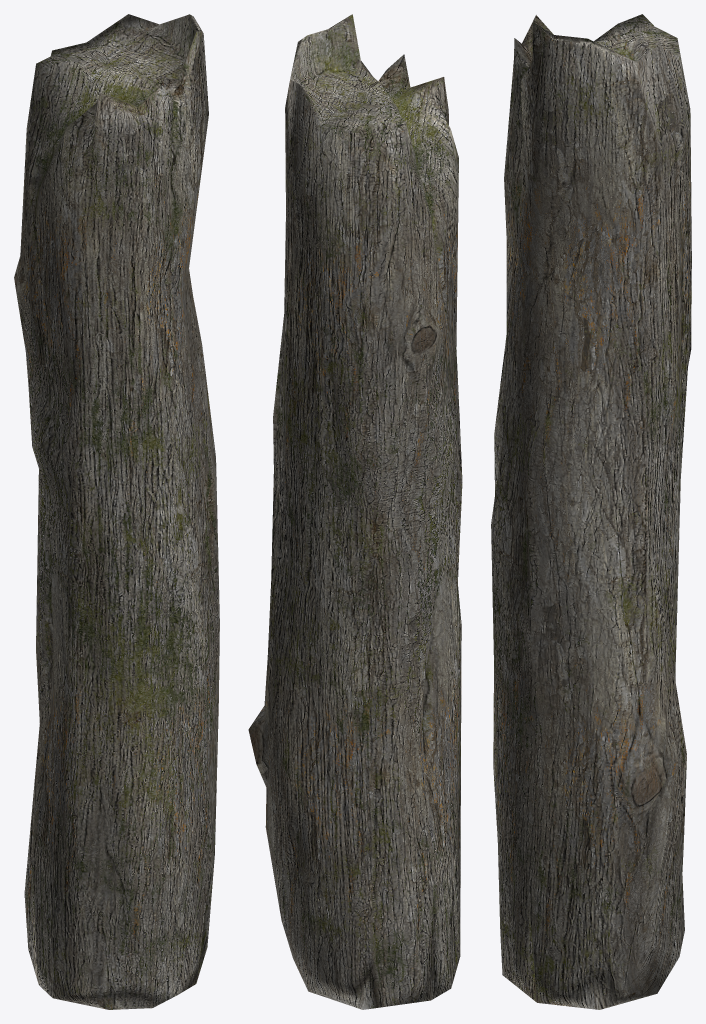
File: SM_ShortPostfbx_1.fbx
3 renders of one model, left to right at view 1: azimuth 30°, elevation 25°; view 2: azimuth 150°, elevation 25°; view 3: azimuth 270°, elevation 25°, orthographic. The views are drawn at different scales.
Parts seen in each view (by area): view 1: SM_ShortPostfbx_1_LOD0; view 2: SM_ShortPostfbx_1_LOD0; view 3: SM_ShortPostfbx_1_LOD0.
Boxes of the visible parts, x1,y1,x2,y2 form: SM_ShortPostfbx_1_LOD0: (14, 14, 219, 1009); SM_ShortPostfbx_1_LOD0: (248, 14, 462, 1009); SM_ShortPostfbx_1_LOD0: (491, 14, 691, 1009).
Bounding box in the file's own units: 19.68 × 17.33 × 93.38.
